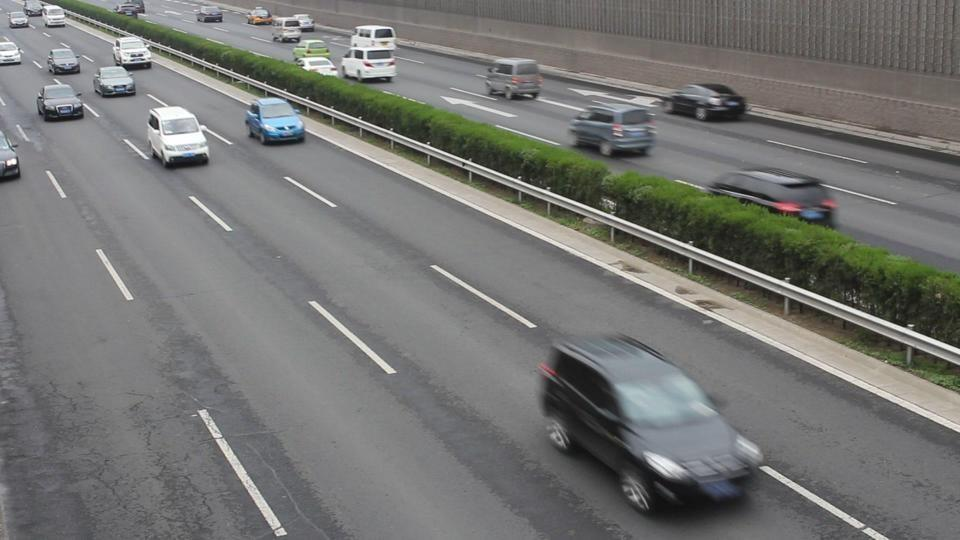car: (535, 332, 767, 515), (707, 168, 840, 229), (567, 103, 659, 157), (146, 105, 211, 168), (668, 82, 748, 122), (243, 97, 306, 145), (483, 58, 543, 101), (340, 47, 398, 84), (35, 82, 84, 121), (93, 66, 137, 97), (0, 131, 21, 180), (46, 46, 81, 74), (0, 39, 22, 66), (8, 12, 28, 29)
